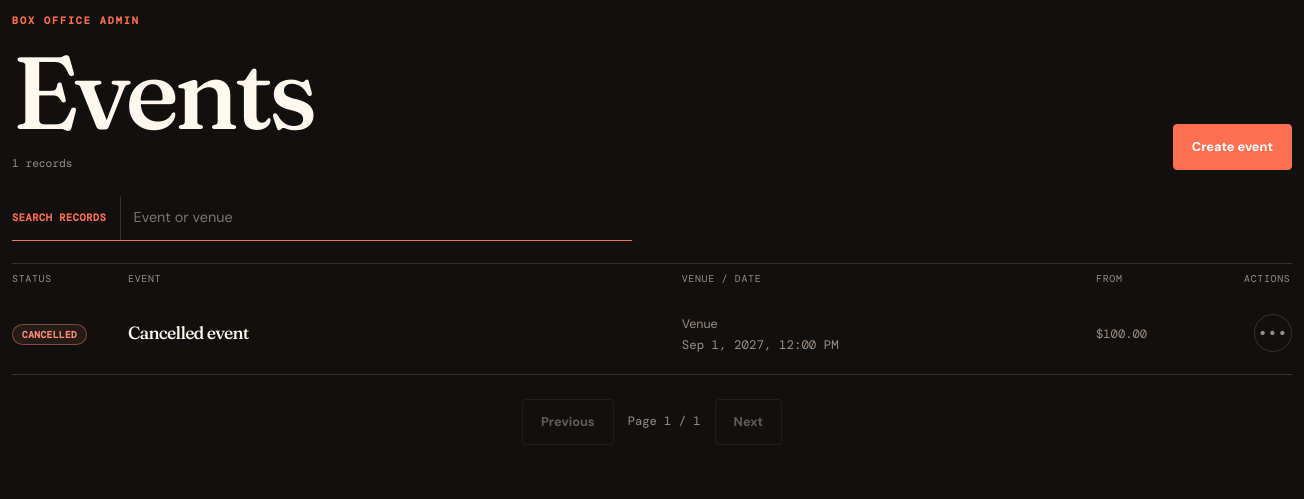
Test: AdminEventsPage › shows the valid action matrix for Cancelled
Click the button "•••" at [1273, 333], box [1254,314,1292,352]
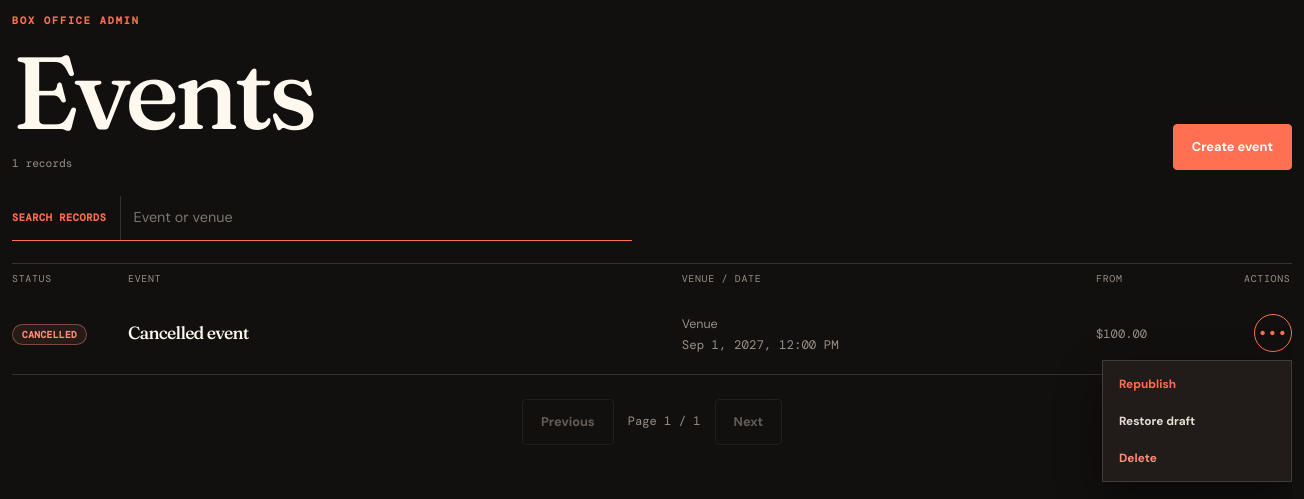
expect the menu item "Republish" is shown: met, box [1109,367,1285,401]
expect the menu item "Restore draft" is shown: met, box [1109,404,1285,438]
expect the menu item "Delete" is shown: met, box [1109,441,1285,475]
